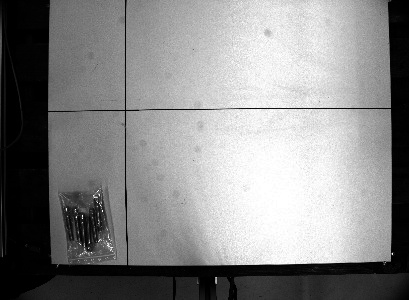t2: (55, 184, 117, 268)
